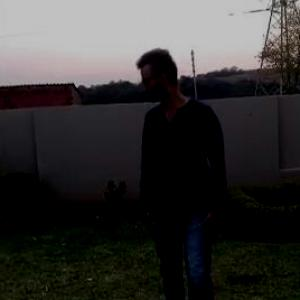follow: (129, 39, 229, 299)
